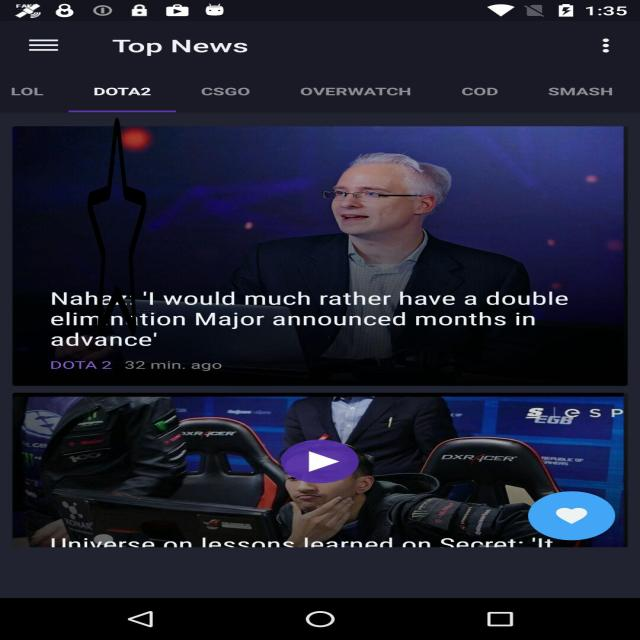forced continuity: (88, 113, 146, 341)
